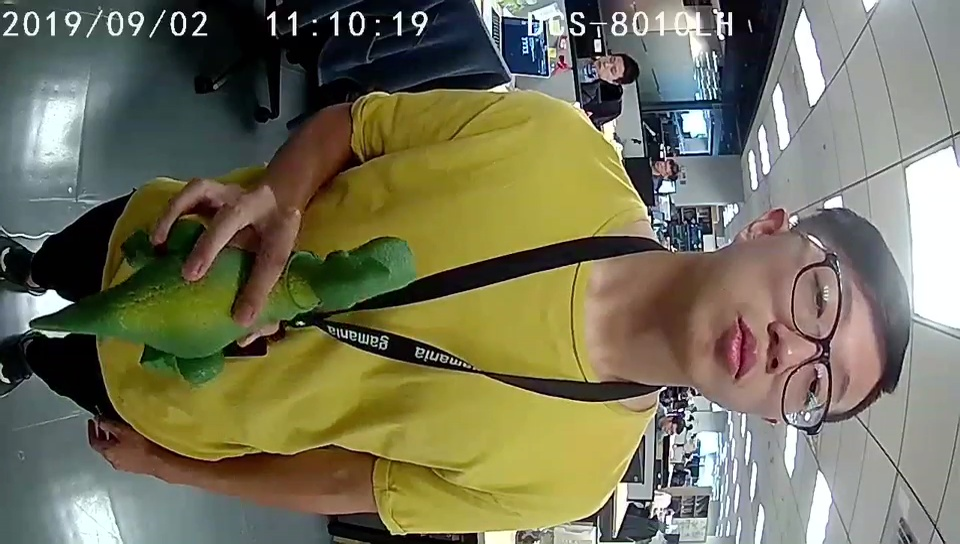rex: (129, 236, 415, 383)
